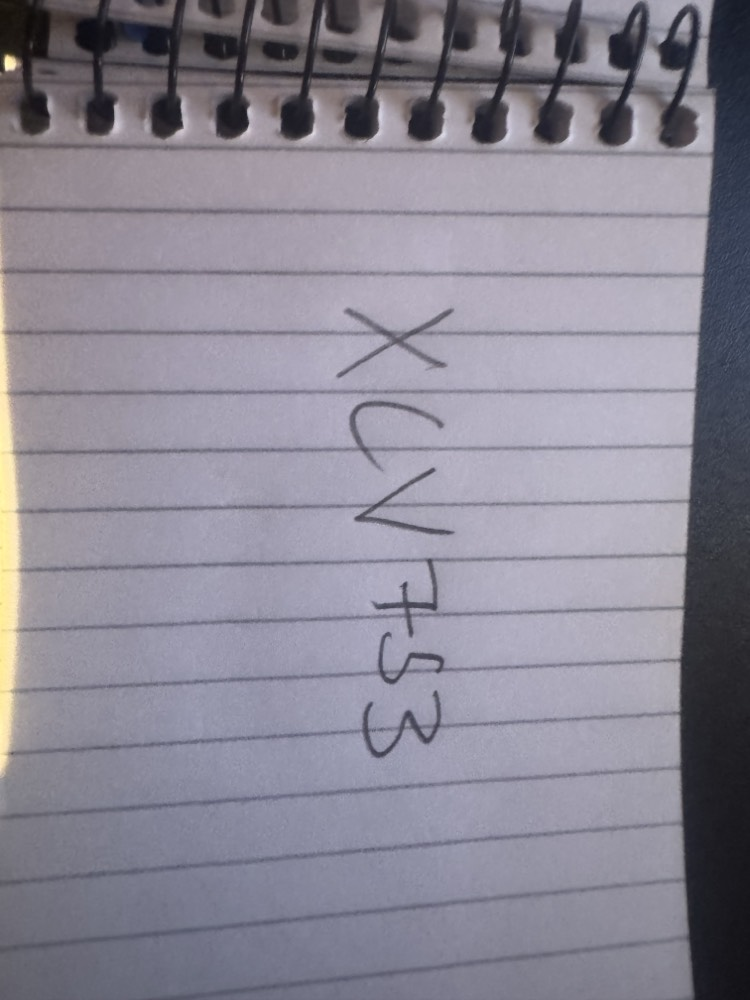OCR_AREA: (335, 300, 463, 763)
